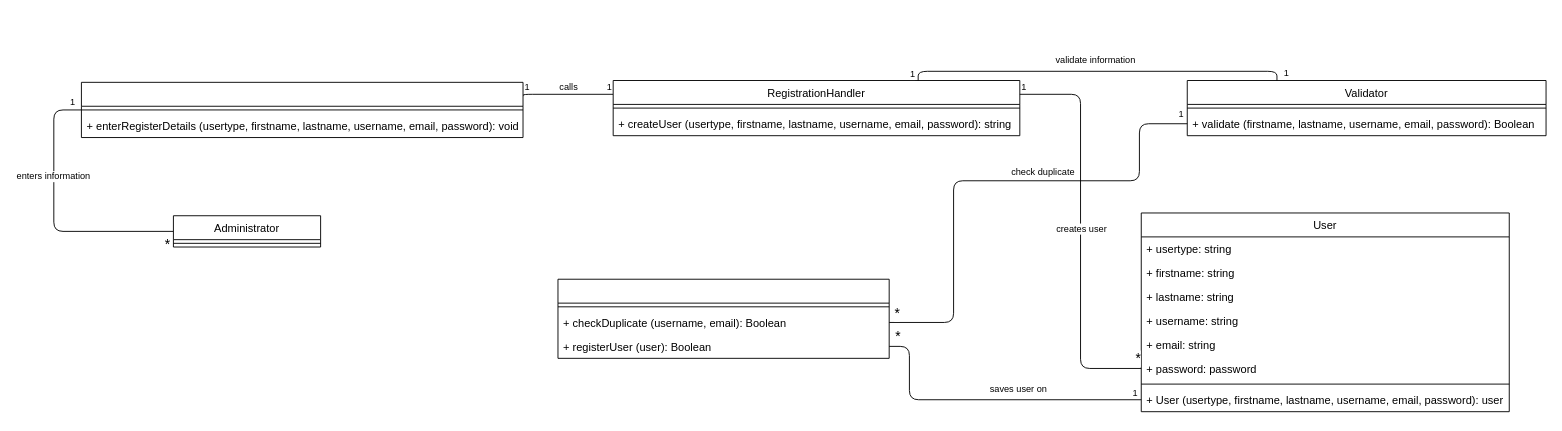
Image size: 1562x431. Some labels were removed from this diagram. The box of each missing label's shape, as (x1, y1, x2, y2) in pixels:
CloudServer: (557, 278, 889, 358)
UI: (80, 81, 523, 138)
